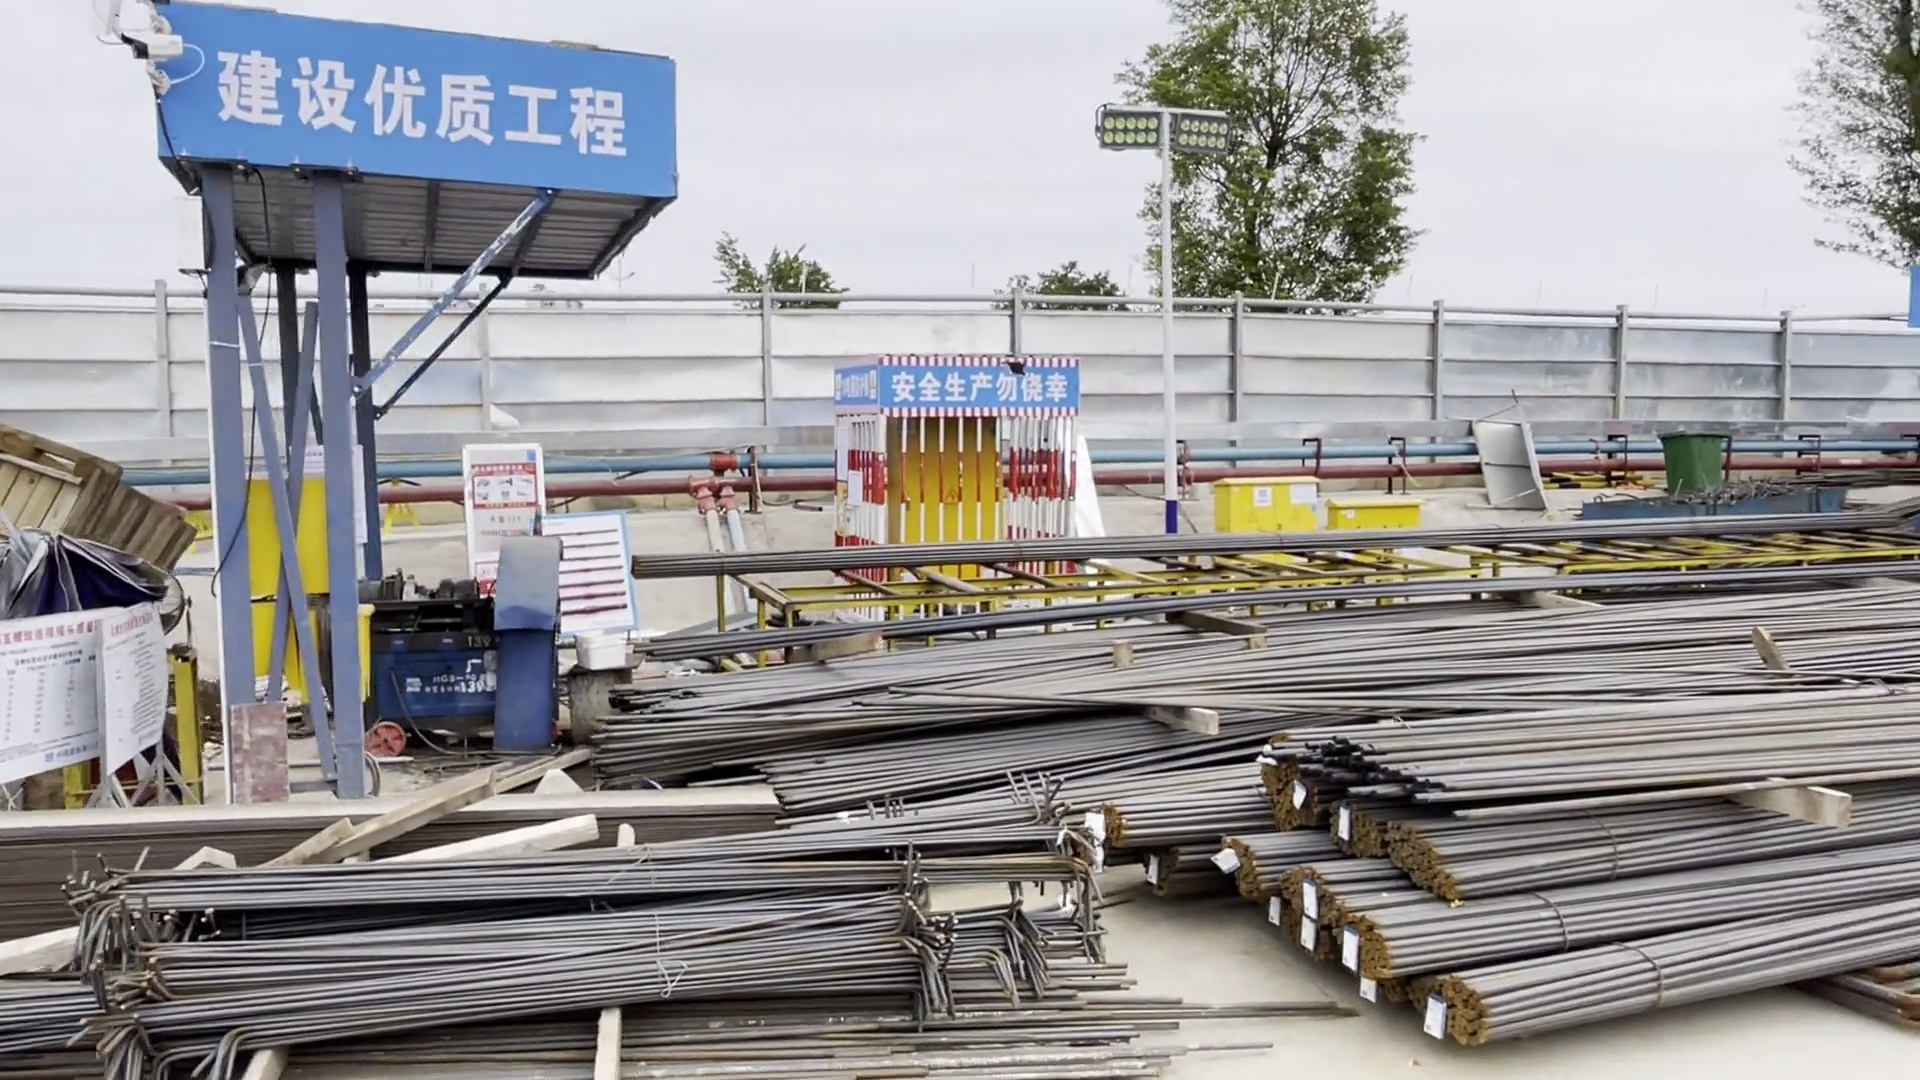ebox: (1208, 464, 1331, 527), (1323, 493, 1433, 535)
rebar: (591, 526, 1909, 862), (63, 811, 1182, 1080), (1226, 687, 1920, 1048)
slogan: (204, 17, 641, 179), (840, 357, 1063, 409)
